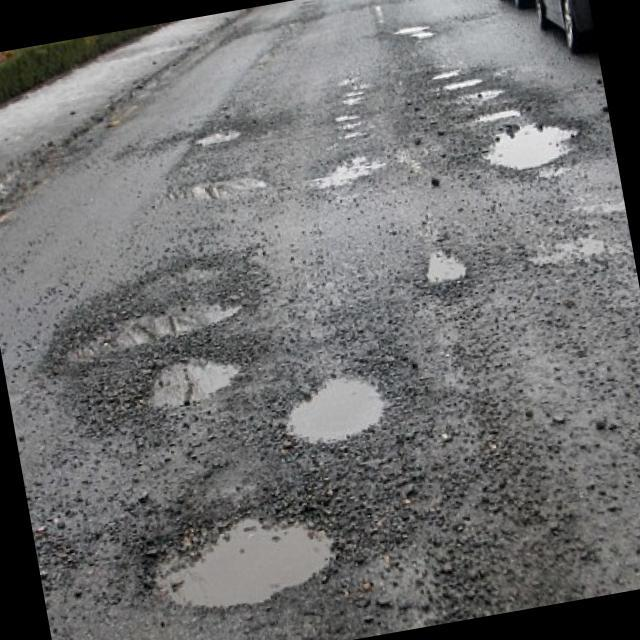Pothole: (136, 488, 344, 626), (52, 282, 248, 364), (278, 359, 392, 452), (482, 111, 585, 179), (140, 344, 244, 409), (304, 151, 381, 198), (185, 168, 268, 208), (418, 242, 472, 286), (186, 120, 244, 152), (458, 85, 505, 109), (441, 72, 492, 94), (476, 104, 524, 124), (394, 16, 432, 36), (332, 92, 370, 109), (432, 64, 469, 80), (338, 126, 368, 142), (331, 109, 361, 125), (408, 26, 441, 40), (338, 118, 364, 130)
